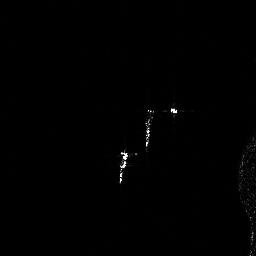ship: (117, 150, 128, 181), (142, 118, 152, 147)
